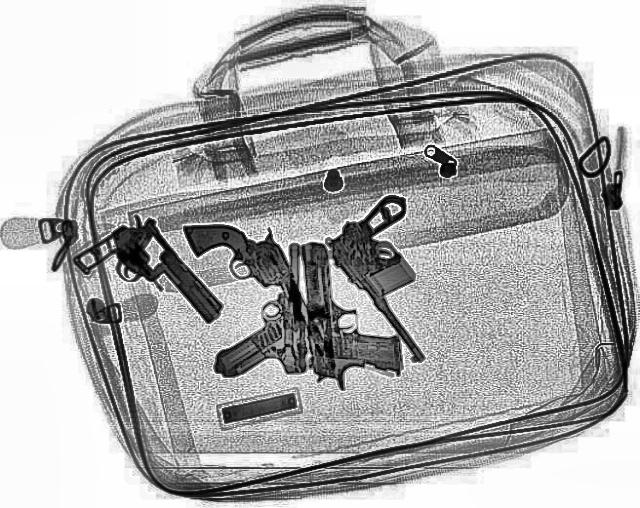Gun: (303, 190, 501, 366), (180, 205, 332, 371), (63, 213, 237, 349), (300, 238, 400, 390), (206, 242, 310, 376)
